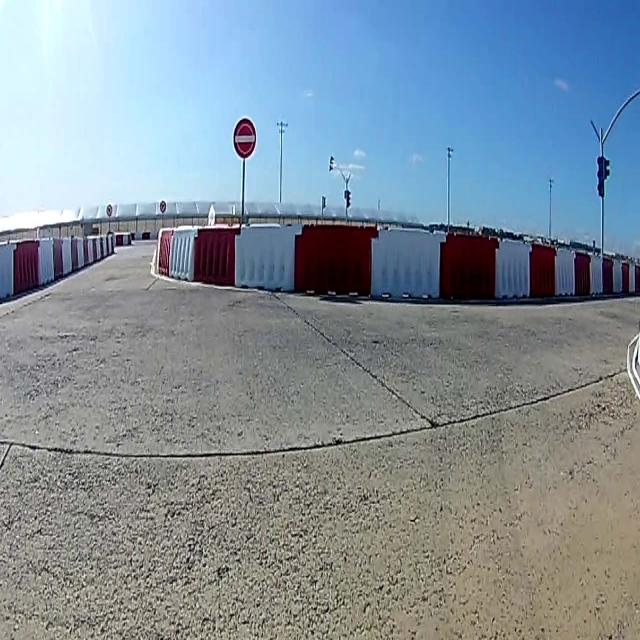girisyok: (235, 122, 255, 155)
